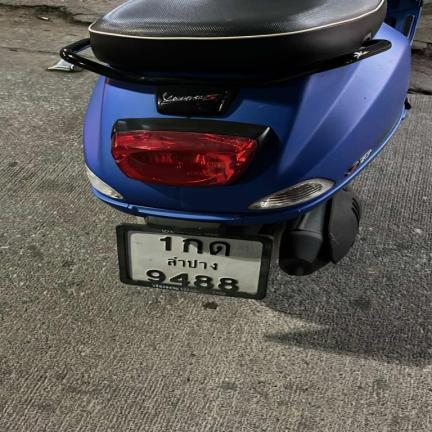1: (155, 234, 174, 253)
4: (168, 270, 191, 287)
8: (193, 272, 215, 290), (218, 275, 240, 292)
9: (143, 267, 166, 283)
A01: (180, 237, 203, 255)
A20: (208, 239, 232, 258)
LPG: (163, 255, 221, 273)
